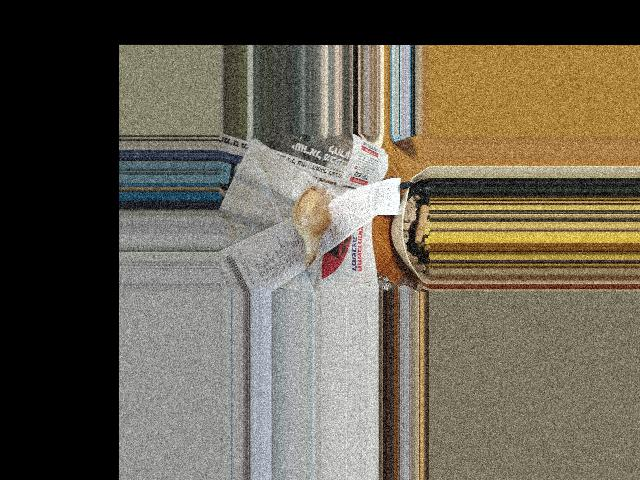onion: (292, 188, 328, 243)
